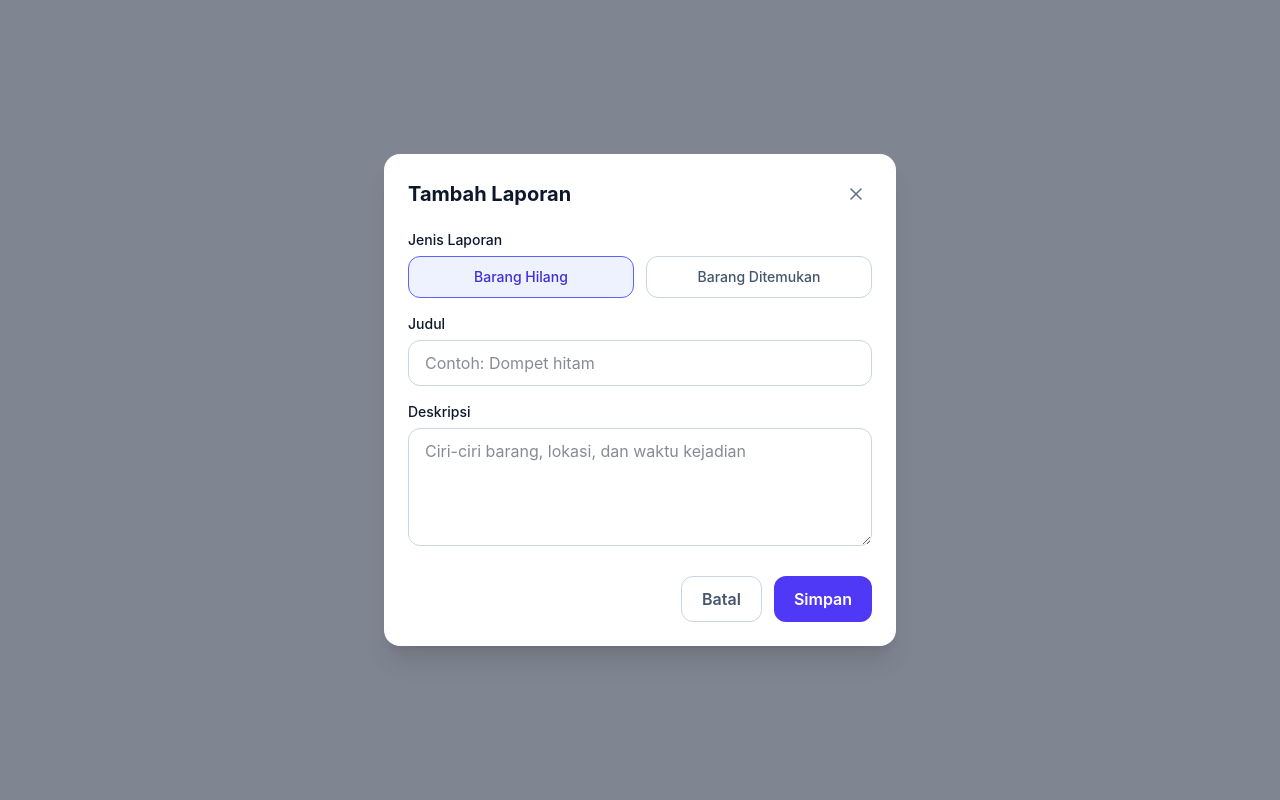
it: AddModal › tampilan › memilih jenis 'Barang Hilang' secara bawaan dan bisa diganti
Check: the radio button labelled "Barang Hilang" is checked, box [408,256,634,298]
Click the radio button labelled "Barang Ditemukan". click: {"x": 759, "y": 277}
box: [646,256,872,298]
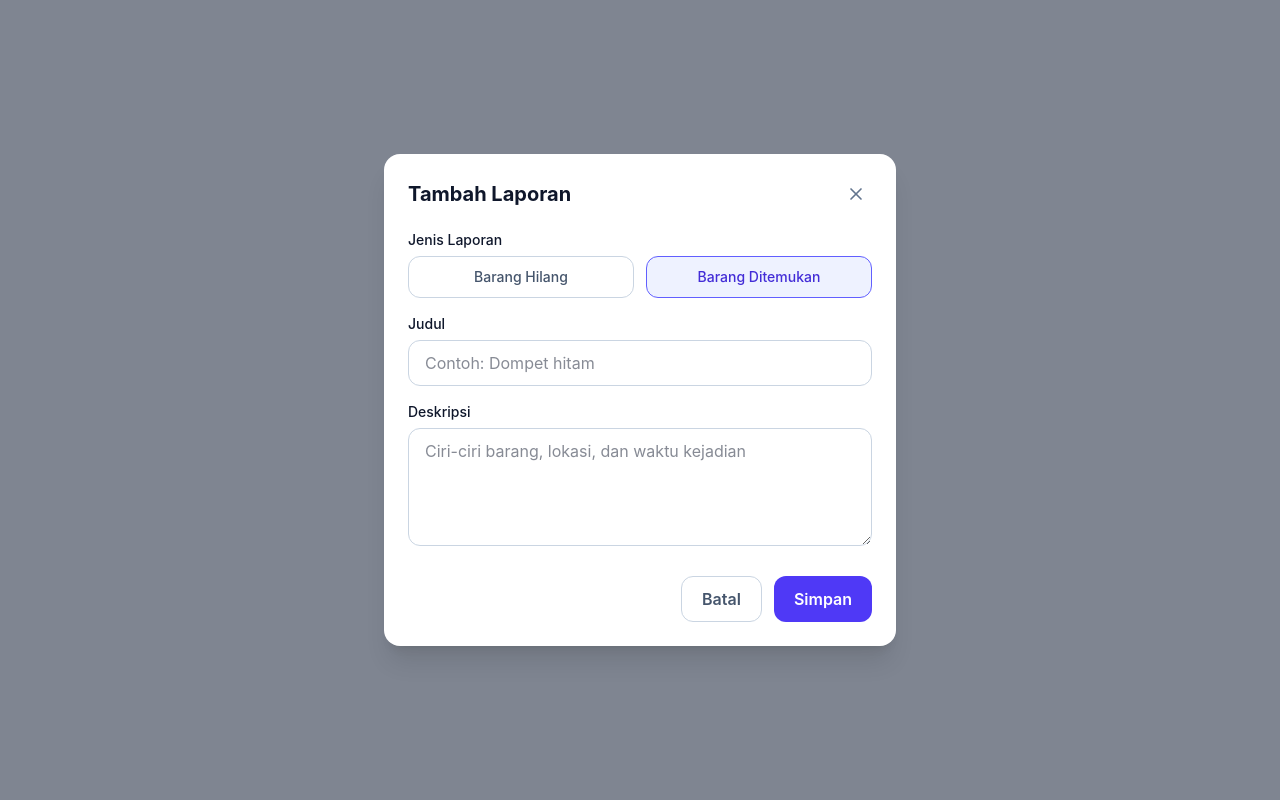
Check: the radio button labelled "Barang Ditemukan" is checked, box [646,256,872,298]
Check: the radio button labelled "Barang Hilang" is not checked, box [408,256,634,298]
